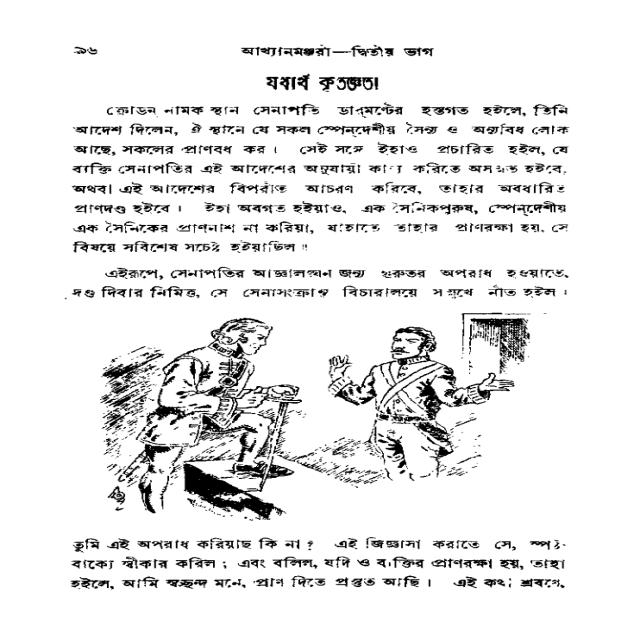image: (82, 309, 560, 510)
page number: (68, 42, 104, 60)
paragraph: (65, 98, 573, 258), (68, 532, 579, 594), (68, 263, 573, 303)
text: (231, 41, 439, 63)
title: (257, 71, 385, 95)
